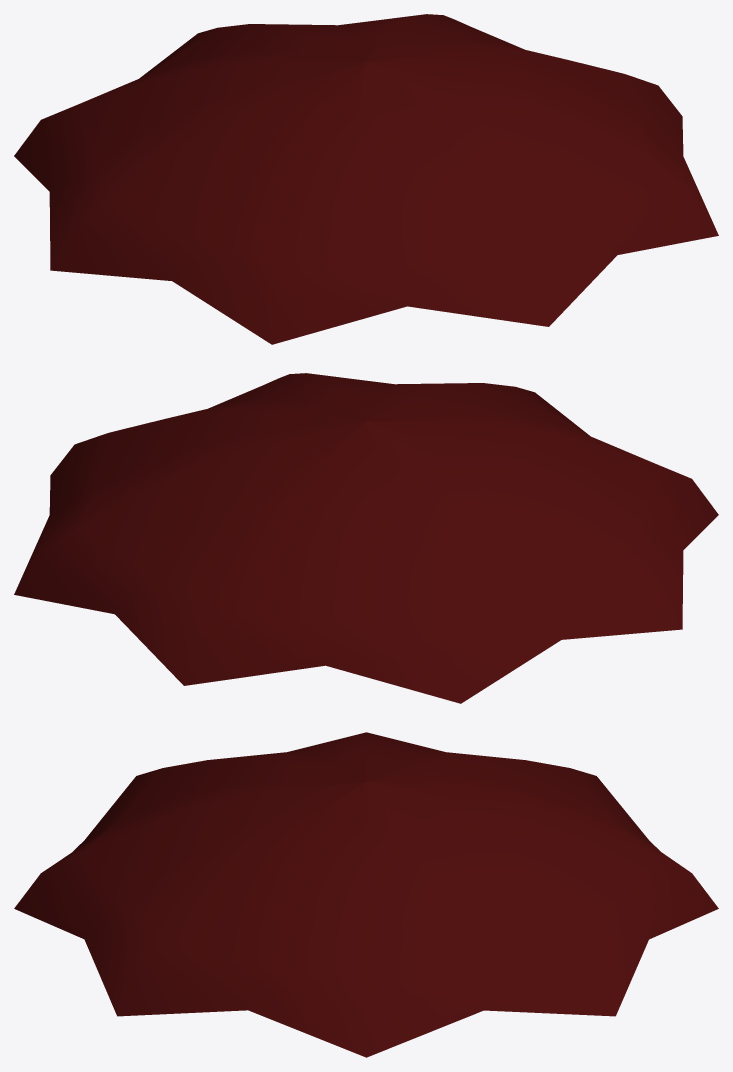
The model's file is Umbrela_Player.fbx.
3 renders of one model, top to bottom at view 1: azimuth 30°, elevation 25°; view 2: azimuth 150°, elevation 25°; view 3: azimuth 270°, elevation 25°, orthographic. The views are drawn at different scales.
Visible parts, largest first — view 1: pCylinder29; view 2: pCylinder29; view 3: pCylinder29.
Boxes of the visible parts, box(x1,y1,x2,y2) form: pCylinder29: box(14, 14, 718, 344); pCylinder29: box(14, 373, 718, 703); pCylinder29: box(14, 732, 718, 1057).
Bounding box in the file's own units: 15.96 × 3.23 × 15.96.
